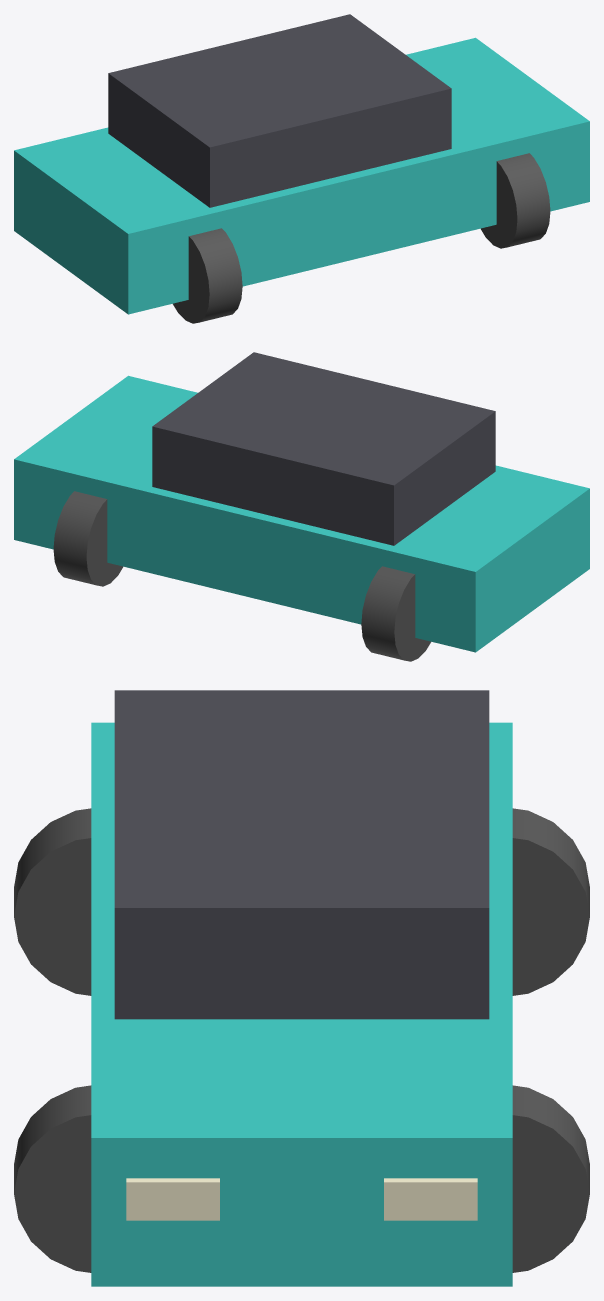
The model's file is car.glb.
3 renders of one model, top to bottom at view 1: azimuth 30°, elevation 25°; view 2: azimuth 150°, elevation 25°; view 3: azimuth 270°, elevation 25°, orthographic. The views are drawn at different scales.
Visible parts, largest first — view 1: Body, Cabin, Wheel_FL, Wheel_RL; view 2: Body, Cabin, Wheel_FR, Wheel_RR; view 3: Cabin, Body, Wheel_RL, Wheel_RR, Wheel_FL, Wheel_FR, Headlight_L, Headlight_R.
Part boxes in pixels (x1=…): Body: x1=14, y1=37, x2=589, y2=314; Cabin: x1=108, y1=14, x2=451, y2=207; Wheel_FL: x1=173, y1=228, x2=242, y2=323; Wheel_RL: x1=481, y1=153, x2=550, y2=248; Body: x1=14, y1=375, x2=589, y2=652; Cabin: x1=152, y1=352, x2=495, y2=545; Wheel_FR: x1=361, y1=566, x2=430, y2=661; Wheel_RR: x1=53, y1=491, x2=122, y2=586; Cabin: x1=114, y1=690, x2=489, y2=1019; Body: x1=91, y1=722, x2=512, y2=1286; Wheel_RL: x1=14, y1=1085, x2=91, y2=1272; Wheel_RR: x1=512, y1=1085, x2=589, y2=1272; Wheel_FL: x1=14, y1=808, x2=91, y2=995; Wheel_FR: x1=512, y1=808, x2=589, y2=995; Headlight_L: x1=126, y1=1178, x2=219, y2=1220; Headlight_R: x1=384, y1=1178, x2=477, y2=1220.
Bounding box in the file's own units: 4.24 × 1.42 × 2.46.
